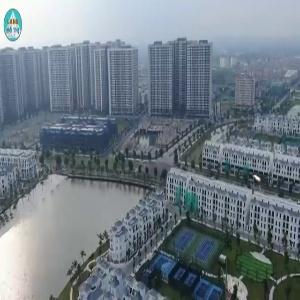drone: (235, 149, 296, 210)
